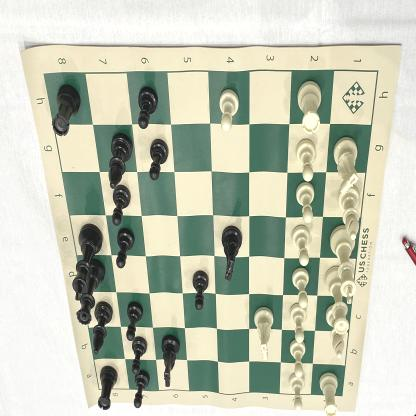black-bishop: (108, 132, 134, 189), (93, 300, 112, 357)
black-king: (72, 222, 104, 302)
black-knight: (220, 225, 242, 284), (160, 335, 181, 388)
black-pawn: (148, 136, 169, 182), (138, 87, 158, 130), (110, 186, 132, 225), (116, 228, 134, 271), (192, 270, 210, 312), (126, 300, 143, 341), (133, 371, 150, 411), (131, 336, 147, 375)
black-queen: (74, 259, 106, 327)
black-rook: (52, 83, 82, 138), (99, 365, 118, 411)
white-bishop: (338, 185, 361, 240), (325, 304, 345, 360)
white-king: (330, 227, 358, 305)
white-knight: (333, 136, 361, 195), (254, 302, 274, 362)
white-pawn: (219, 87, 240, 134), (296, 139, 317, 183), (296, 183, 315, 225), (292, 226, 311, 267), (292, 268, 310, 308), (290, 304, 306, 342), (289, 341, 305, 378), (290, 374, 305, 412)
white-queen: (325, 266, 350, 336)
white-rook: (298, 80, 322, 136), (320, 372, 338, 416)
